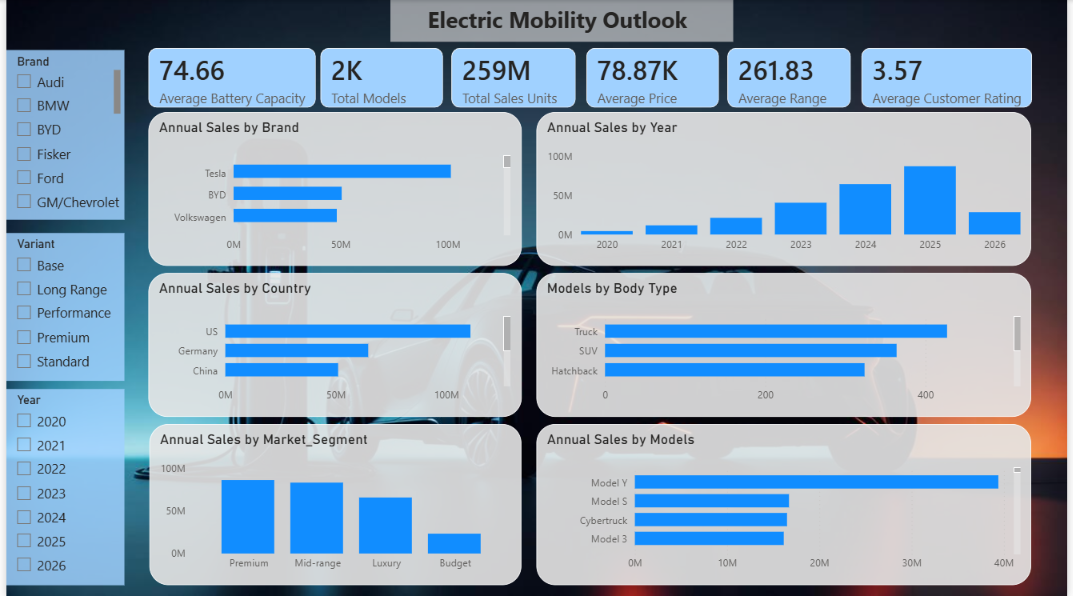

The page's visual inventory and layout, read from the dashboard file:
{"tool":"powerbi","page":{"name":"Electric Mobility Outlook","canvas":[1280,720],"ordinal":0},"visuals":[{"type":"slicer","fields":{"Values":["EV Industry Dynamics.Brand"]},"box":[0,60.3,142.4,205.1],"z":0},{"type":"slicer","fields":{"Values":["EV Industry Dynamics.Year"]},"box":[0,469.3,142.4,236.5],"z":1000},{"type":"slicer","fields":{"Values":["EV Industry Dynamics.Variant"]},"box":[0,281.1,142.4,178.6],"z":2000},{"type":"cardVisual","fields":{"Data":["EV Measures.Models"]},"box":[361.9,41,182.2,106.2],"z":3000},{"type":"cardVisual","fields":{"Data":["EV Measures.Total Sales"]},"box":[520,41,184.6,106.2],"z":4000},{"type":"cardVisual","fields":{"Data":["EV Measures.Average Price"]},"box":[682.8,41,194.2,106.2],"z":5000},{"type":"cardVisual","fields":{"Data":["EV Measures.Average Range"]},"box":[853,41,183.4,106.2],"z":6000},{"type":"cardVisual","fields":{"Data":["EV Measures.Average Battery Capacity"]},"box":[154.4,41,236.5,106.2],"z":7000},{"type":"cardVisual","fields":{"Data":["EV Measures.Average Customer Rating"]},"box":[1014.6,41,240.1,106.2],"z":8000},{"type":"columnChart","fields":{"Category":["EV Industry Dynamics.Year"],"Y":["Sum(EV Industry Dynamics.Annual_Sales_Units)"]},"box":[639.4,135.1,597.2,185.8],"z":9000},{"type":"barChart","fields":{"Category":["EV Industry Dynamics.Brand"],"Y":["Sum(EV Industry Dynamics.Annual_Sales_Units)"]},"box":[171.3,135.1,450,185.8],"z":10000},{"type":"columnChart","fields":{"Y":["Sum(EV Industry Dynamics.Annual_Sales_Units)"],"Category":["EV Industry Dynamics.Market_Segment"]},"box":[172.5,511.5,448.8,194.2],"z":11000},{"type":"barChart","fields":{"Y":["Sum(EV Industry Dynamics.Annual_Sales_Units)"],"Category":["EV Industry Dynamics.Country_Of_Origin"]},"box":[171.3,329.4,450,173.7],"z":12000},{"type":"textbox","box":[463.3,0,413.8,50.7],"z":13000},{"type":"barChart","fields":{"Category":["EV Industry Dynamics.Body_Type"],"Y":["CountNonNull(EV Industry Dynamics.Model)"]},"box":[639.4,329.4,597.2,173.7],"z":14000},{"type":"clusteredBarChart","title":"Annual Sales by Models","fields":{"Y":["Sum(EV Industry Dynamics.Annual_Sales_Units)"],"Category":["EV Industry Dynamics.Model"]},"box":[639.4,511.5,597.2,194.2],"z":15000}]}

Visuals, with their boxes in screenshot pixels (x1, y1, x2, y2), scaled from the page's 1280x720 canvas onto the 1073x596 screenshot:
slicer - EV Industry Dynamics.Brand: 0,50,119,220
slicer - EV Industry Dynamics.Year: 0,388,119,584
slicer - EV Industry Dynamics.Variant: 0,233,119,381
cardVisual - EV Measures.Models: 303,34,456,122
cardVisual - EV Measures.Total Sales: 436,34,591,122
cardVisual - EV Measures.Average Price: 572,34,735,122
cardVisual - EV Measures.Average Range: 715,34,869,122
cardVisual - EV Measures.Average Battery Capacity: 129,34,328,122
cardVisual - EV Measures.Average Customer Rating: 851,34,1052,122
columnChart - EV Industry Dynamics.Year x Sum(EV Industry Dynamics.Annual_Sales_Units): 536,112,1037,266
barChart - EV Industry Dynamics.Brand x Sum(EV Industry Dynamics.Annual_Sales_Units): 144,112,521,266
columnChart - Sum(EV Industry Dynamics.Annual_Sales_Units) x EV Industry Dynamics.Market_Segment: 145,423,521,584
barChart - Sum(EV Industry Dynamics.Annual_Sales_Units) x EV Industry Dynamics.Country_Of_Origin: 144,273,521,416
textbox: 388,0,735,42
barChart - EV Industry Dynamics.Body_Type x CountNonNull(EV Industry Dynamics.Model): 536,273,1037,416
"Annual Sales by Models" clusteredBarChart: 536,423,1037,584
